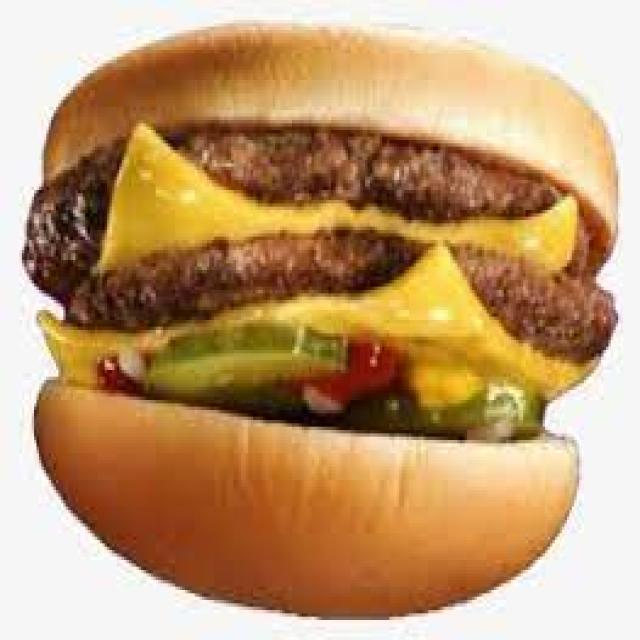햄버거: (19, 20, 623, 620)
